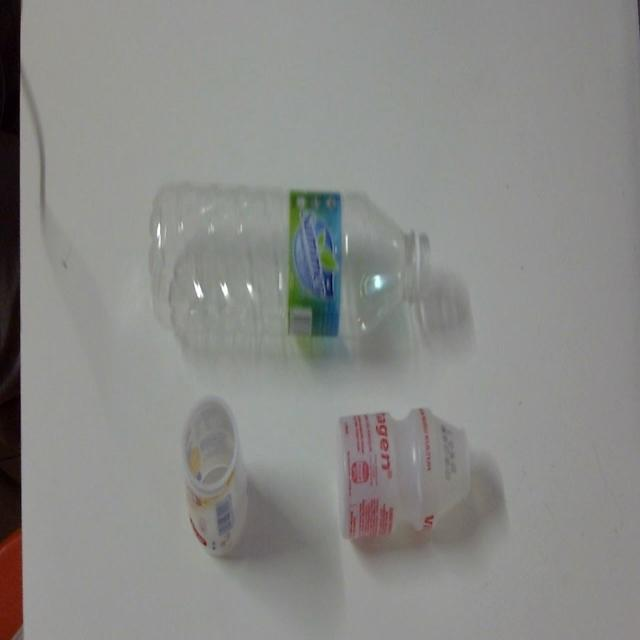plastic_laydown_0rotation: (145, 166, 435, 354), (337, 394, 476, 554)
plastic_standrotation: (172, 384, 256, 562)
